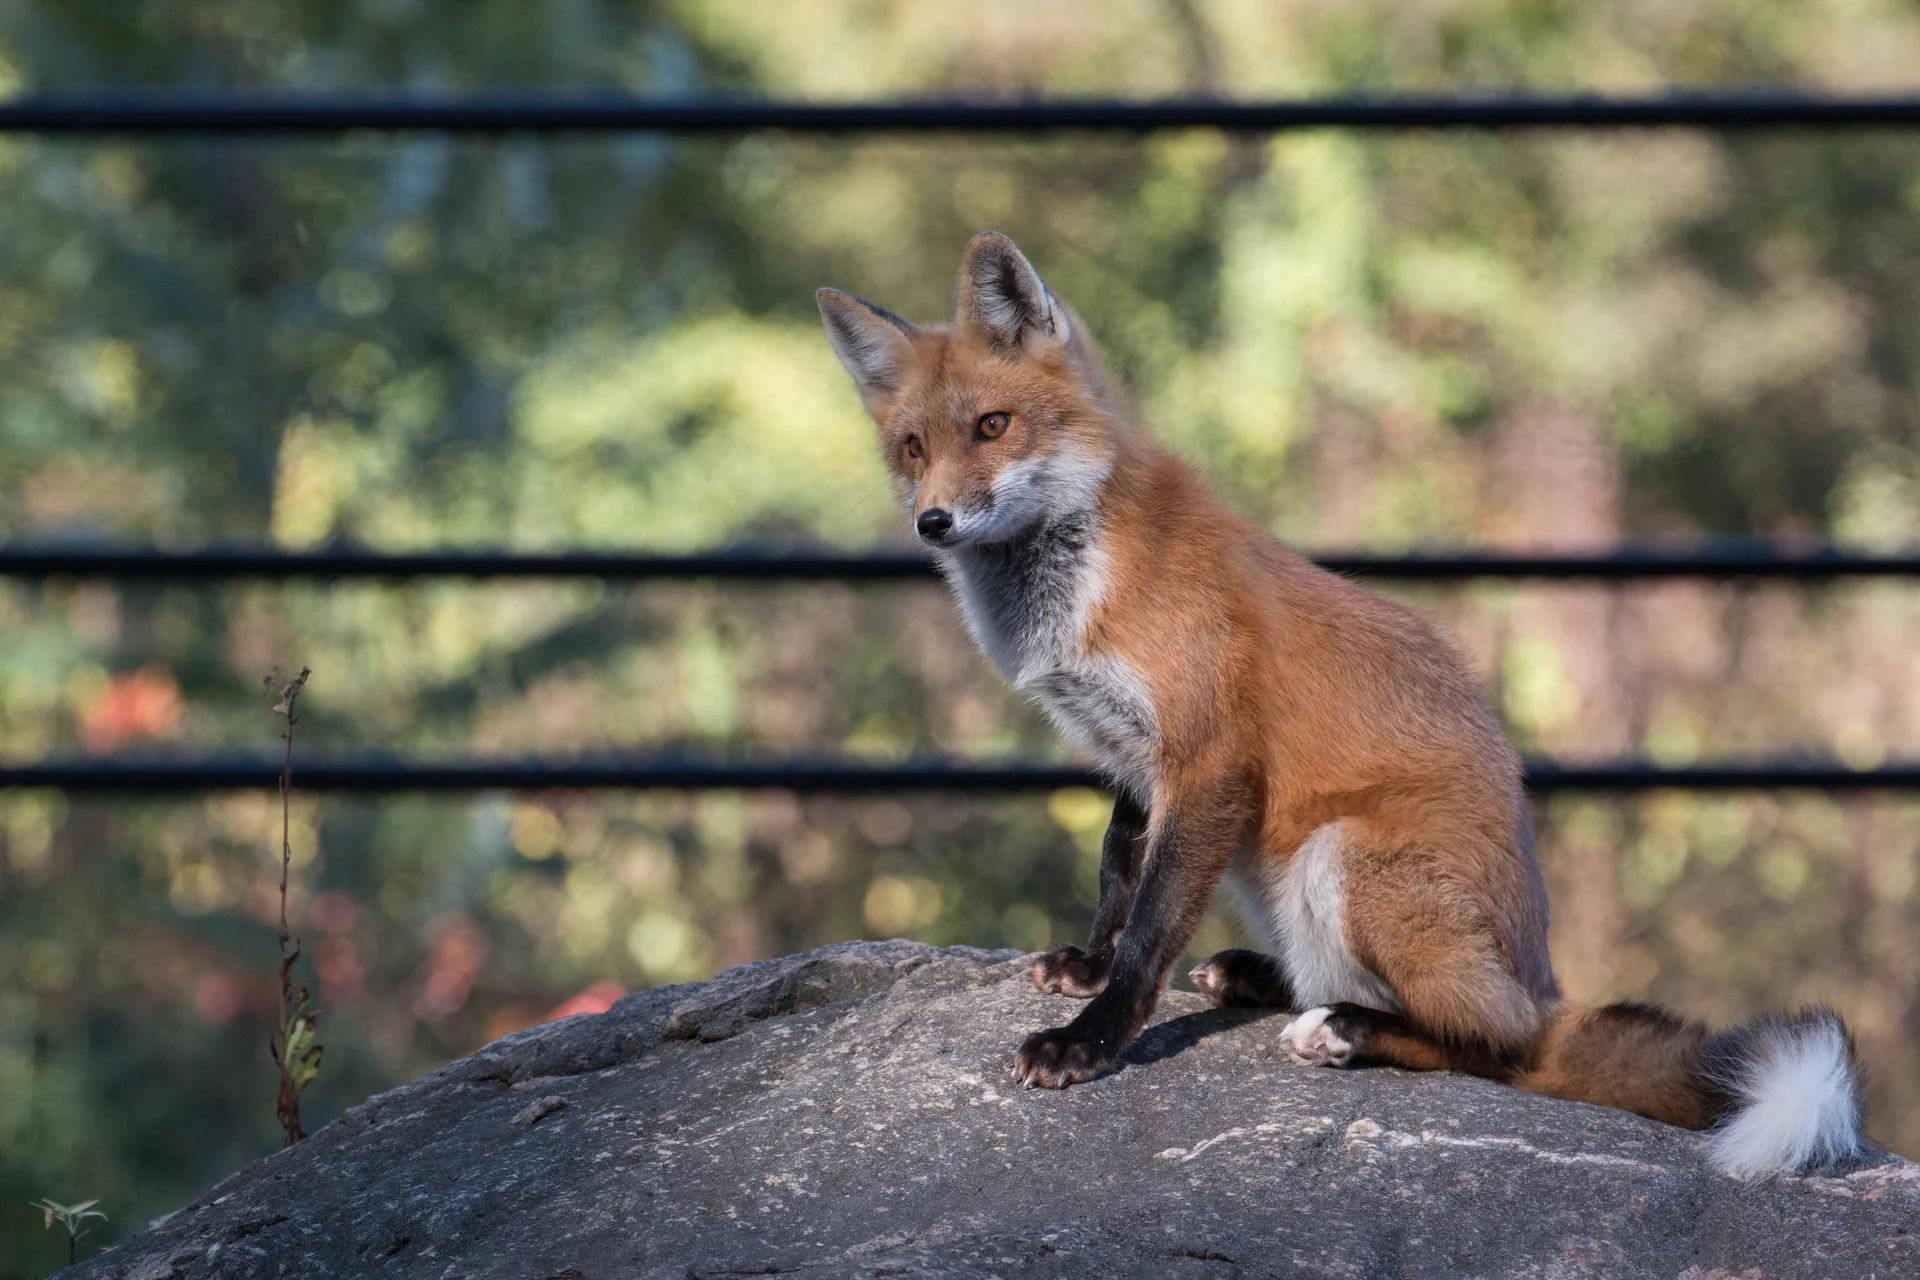fox: (794, 224, 1866, 1169)
